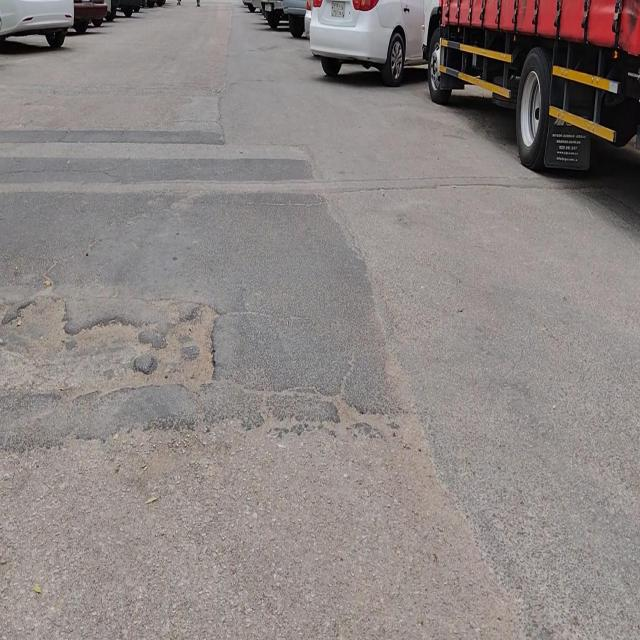Pothole: (133, 300, 222, 392), (63, 314, 137, 398)
